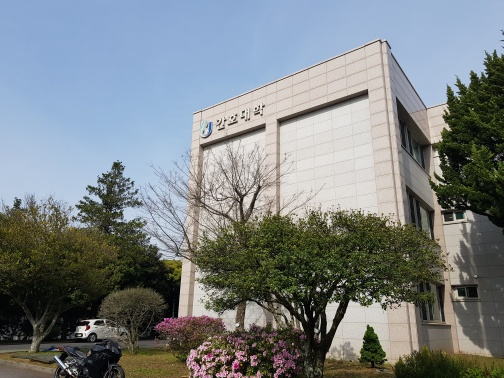College of Nursing: (167, 46, 498, 360), (194, 98, 273, 140)
